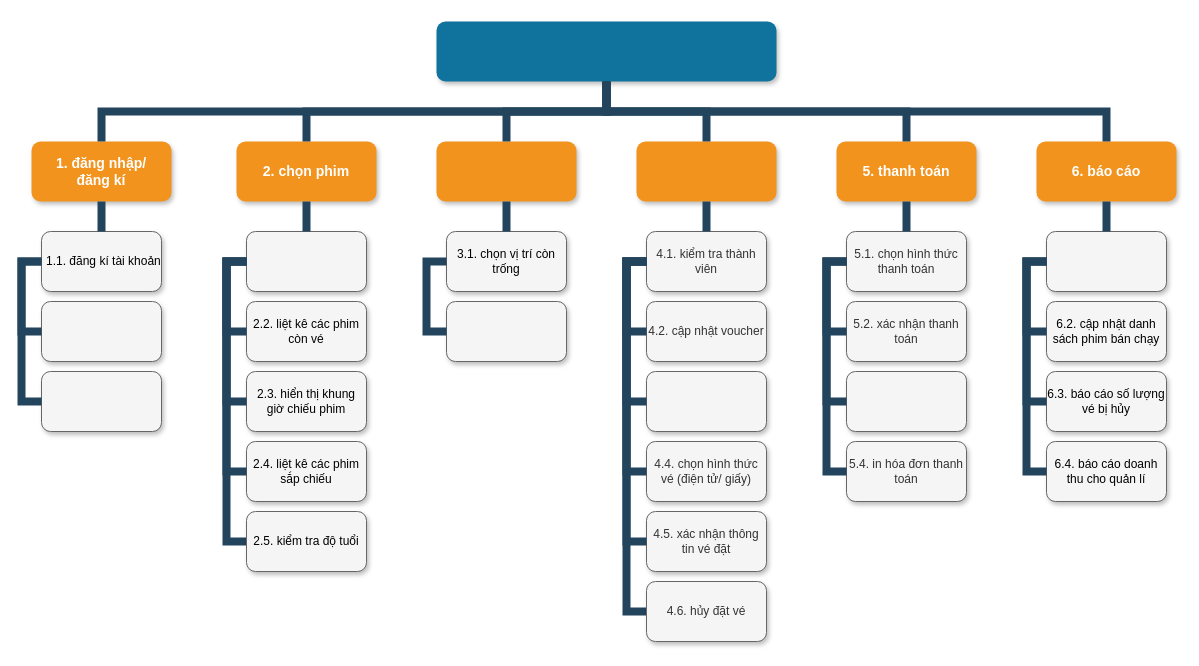
Image size: 1199x666. Some labels were removed from this diagram. Each missing label, with the centre of its shape:
"1.2. xác nhận tài khoản" belongs at point (102, 332).
"1.3. đăng nhập vào hệ thống" belongs at point (102, 402).
"2.1. liệt kê các phim đang chiếu" belongs at point (307, 262).
"3. chọn vị trí ngồi" belongs at point (507, 172).
"3.2. chọn số lượng ghế muốn đặt" belongs at point (507, 332).
"4. đặt vé" belongs at point (707, 172).
"4.3. chọn loại vé (vip/ thường)" belongs at point (707, 402).
"5.3. cộng điểm tích lũy thành viên" belongs at point (907, 402).
"6.1. cập nhật số lượng vé được bán" belongs at point (1107, 262).
"TicketBooking" belongs at point (607, 52).
